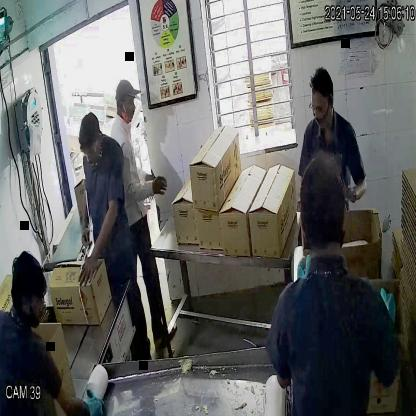goggles: (308, 94, 334, 117)
